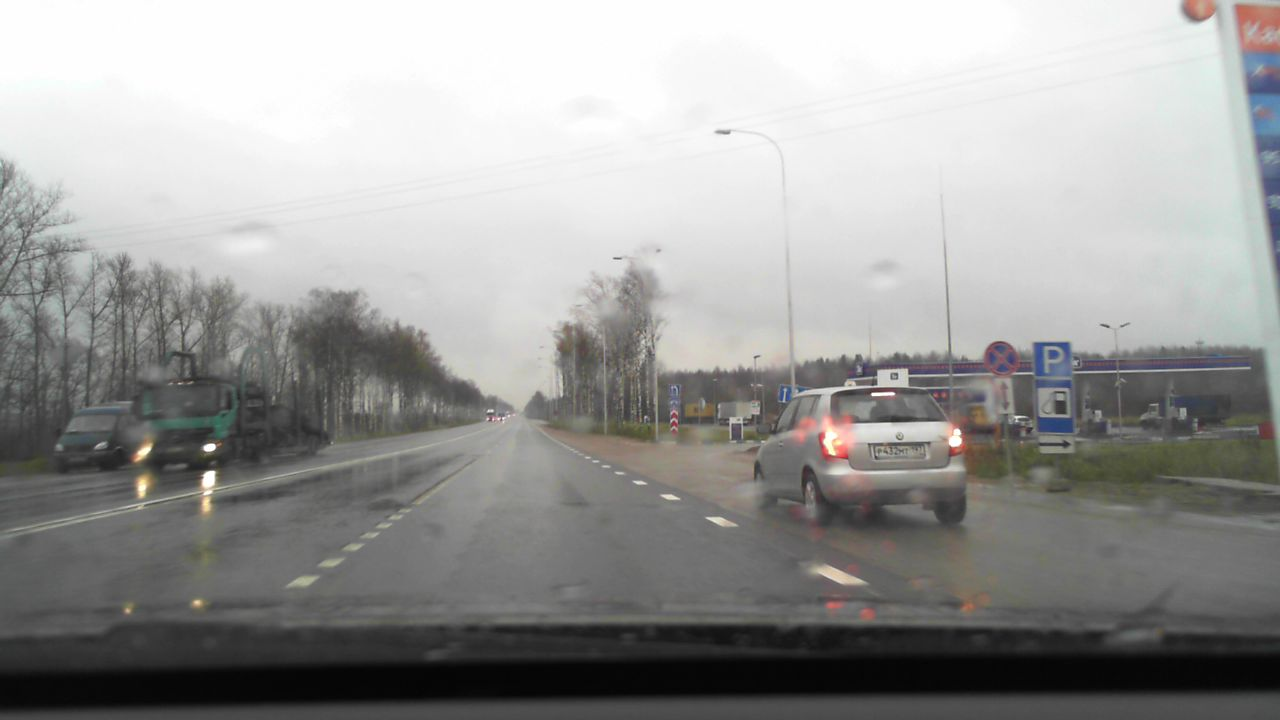No Parking: (984, 342, 1019, 376)
